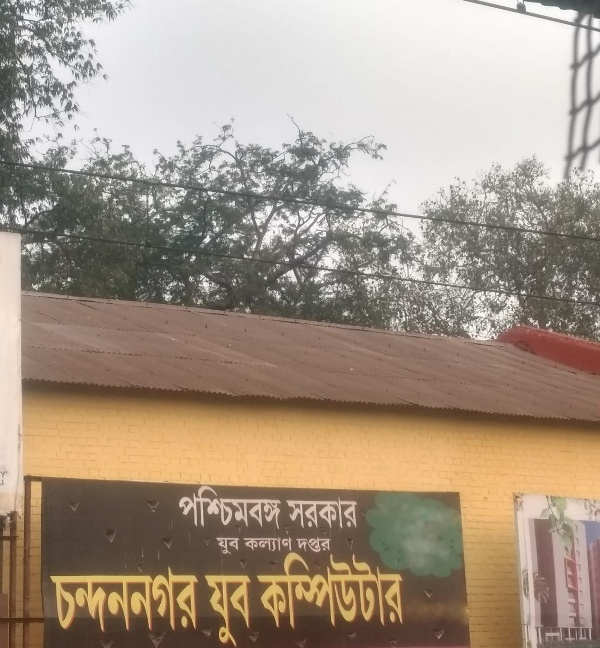text: (257, 548, 272, 631), (273, 548, 288, 631), (289, 548, 304, 631), (305, 548, 320, 631), (321, 548, 336, 631), (337, 548, 352, 631), (353, 548, 368, 631), (369, 548, 384, 631), (385, 548, 400, 631), (209, 570, 224, 648), (225, 570, 240, 648), (241, 570, 256, 648), (65, 564, 80, 635), (81, 564, 96, 635), (97, 564, 112, 635), (113, 564, 128, 635), (129, 564, 144, 635), (145, 564, 160, 635), (161, 564, 176, 635), (177, 564, 192, 635), (50, 564, 64, 635), (177, 485, 192, 530), (193, 485, 208, 530), (209, 485, 224, 530), (225, 485, 240, 530), (241, 485, 256, 530), (257, 485, 272, 530), (193, 564, 202, 635), (273, 485, 286, 530), (289, 496, 304, 531), (305, 496, 320, 531), (321, 496, 336, 531), (337, 496, 352, 531), (401, 548, 406, 631), (257, 570, 262, 648), (204, 570, 208, 648), (225, 538, 240, 556), (253, 548, 256, 631), (257, 536, 272, 552), (273, 536, 288, 552), (305, 537, 320, 553), (243, 536, 256, 552), (321, 537, 333, 553), (353, 496, 358, 531), (216, 538, 224, 556), (296, 537, 304, 553), (285, 496, 288, 531), (289, 536, 295, 552), (175, 485, 176, 530), (241, 538, 243, 556)
